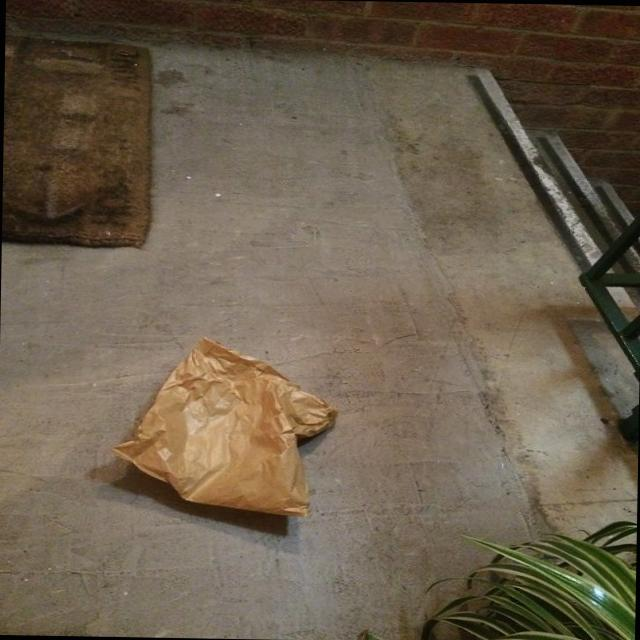Trash: (95, 339, 359, 525)
